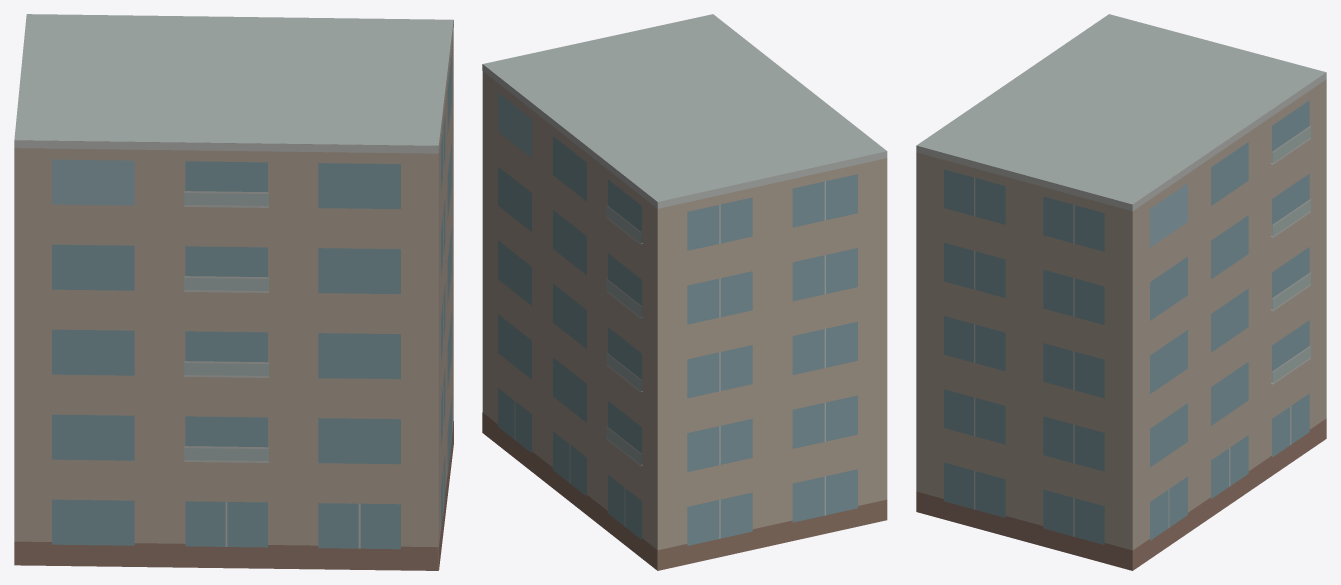
File: survey-upis-32885983.glb
The picture shows the model from 3 angles, left to right: view 1: azimuth 30°, elevation 25°; view 2: azimuth 150°, elevation 25°; view 3: azimuth 270°, elevation 25°; orthographic projection. The views are drawn at different scales.
Visible parts, largest first — view 1: survey-upis-32885983.tmp; view 2: survey-upis-32885983.tmp; view 3: survey-upis-32885983.tmp.
Boxes of the visible parts, x1,y1,x2,y2 form: survey-upis-32885983.tmp: (14, 14, 453, 570); survey-upis-32885983.tmp: (482, 14, 887, 570); survey-upis-32885983.tmp: (916, 14, 1326, 570).
Size of the model in its own units: 14.67 by 13.15 by 13.36.
